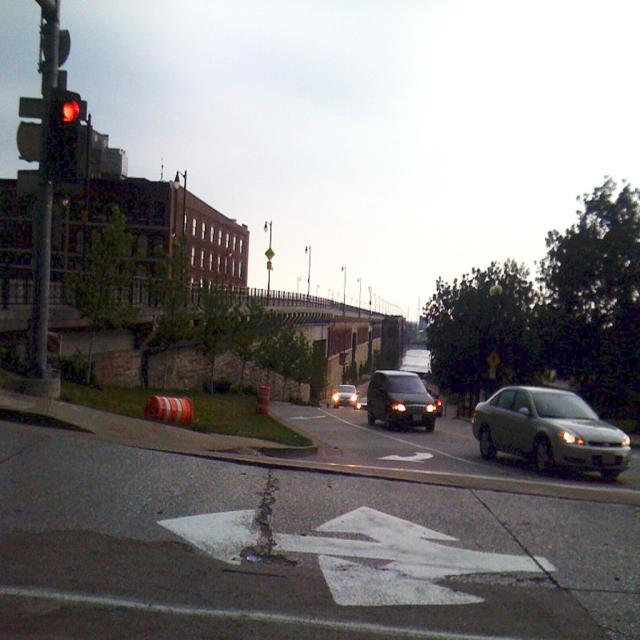traffic light: (47, 90, 82, 189)
